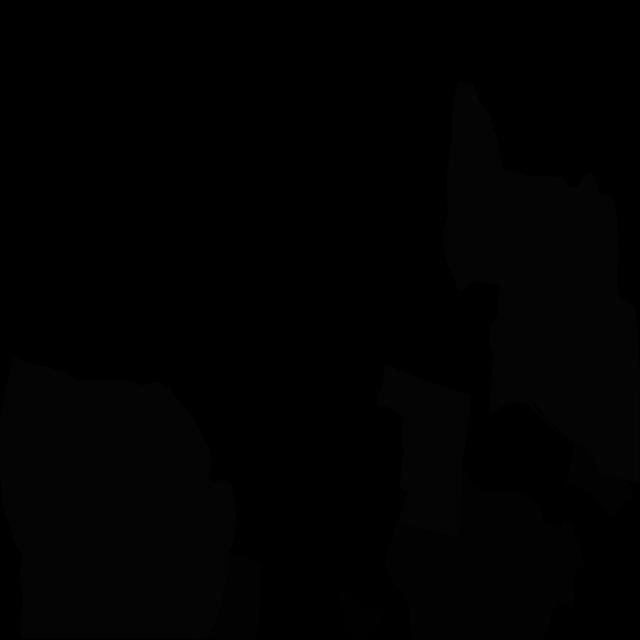cardboard: (384, 468, 584, 640), (564, 442, 634, 516), (207, 551, 260, 640)
rigid_plastic: (338, 587, 382, 639)
soft_plastic: (443, 81, 640, 486), (0, 356, 237, 639), (377, 364, 471, 536)
